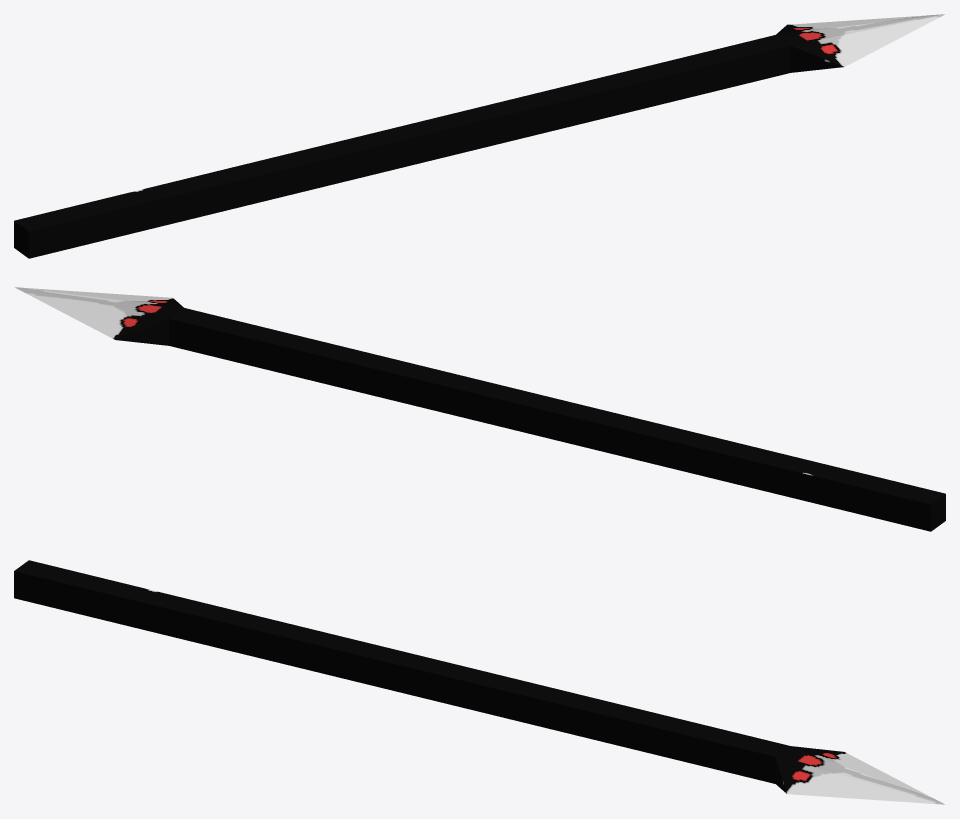
File: Lanca.fbx
The picture shows the model from 3 angles, top to bottom: view 1: azimuth 30°, elevation 25°; view 2: azimuth 150°, elevation 25°; view 3: azimuth 330°, elevation 25°; orthographic projection.
Visible parts, largest first — view 1: Cube; view 2: Cube; view 3: Cube.
Boxes of the visible parts, left/top/right/bottom form: Cube: left=14, top=14, right=944, bottom=258; Cube: left=15, top=287, right=945, bottom=531; Cube: left=14, top=560, right=944, bottom=804.
Bounding box in the file's own units: 568 × 15.93 × 61.37.
Materials: 1 (1 with a texture image).
